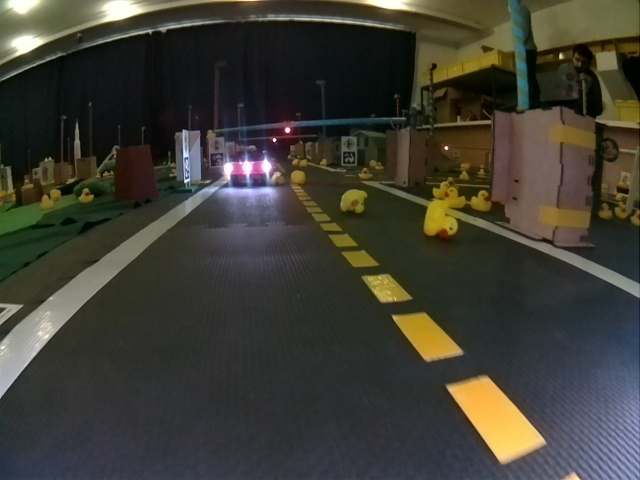Duckie: (423, 201, 457, 238), (340, 189, 367, 214), (472, 190, 491, 211), (443, 188, 466, 205), (433, 182, 449, 197), (79, 188, 94, 203), (291, 170, 305, 184), (41, 195, 54, 208), (272, 171, 284, 185), (599, 204, 611, 218), (358, 169, 372, 177), (319, 159, 329, 168)
Duckiebot: (225, 154, 272, 185)
Intersection sign: (342, 137, 356, 149)
QR code: (183, 156, 191, 182), (210, 154, 223, 167), (342, 152, 355, 164)
